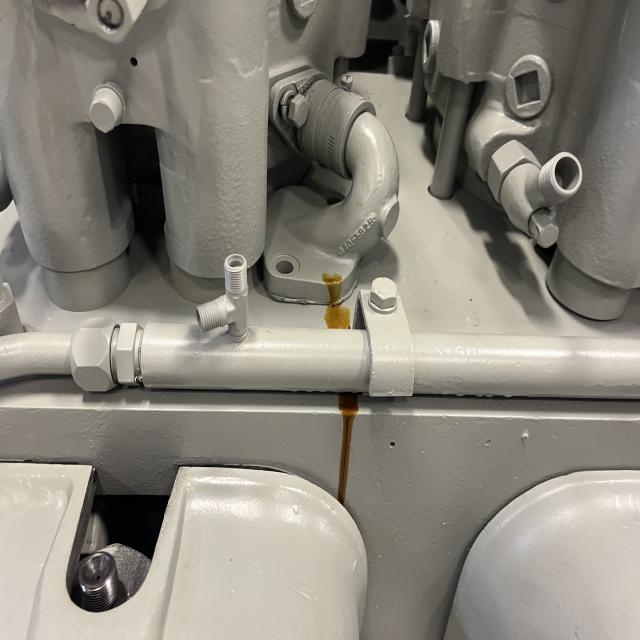Oil Leak: (337, 393, 358, 504), (322, 273, 350, 329)
